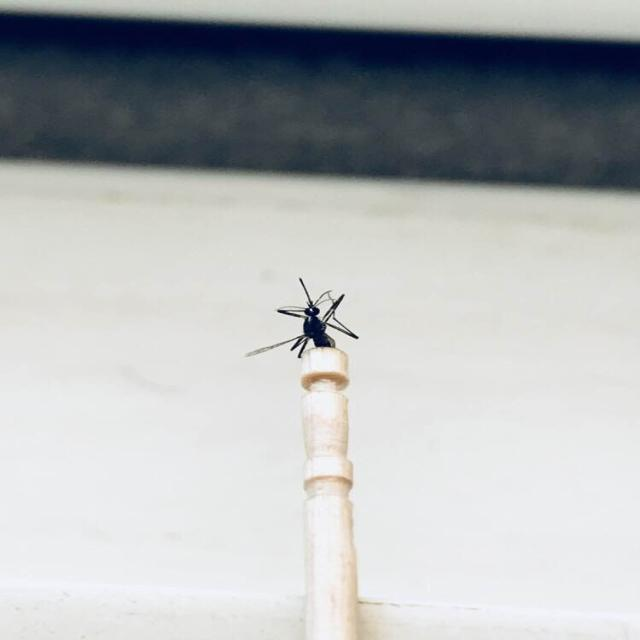albopictus: (244, 271, 360, 372)
